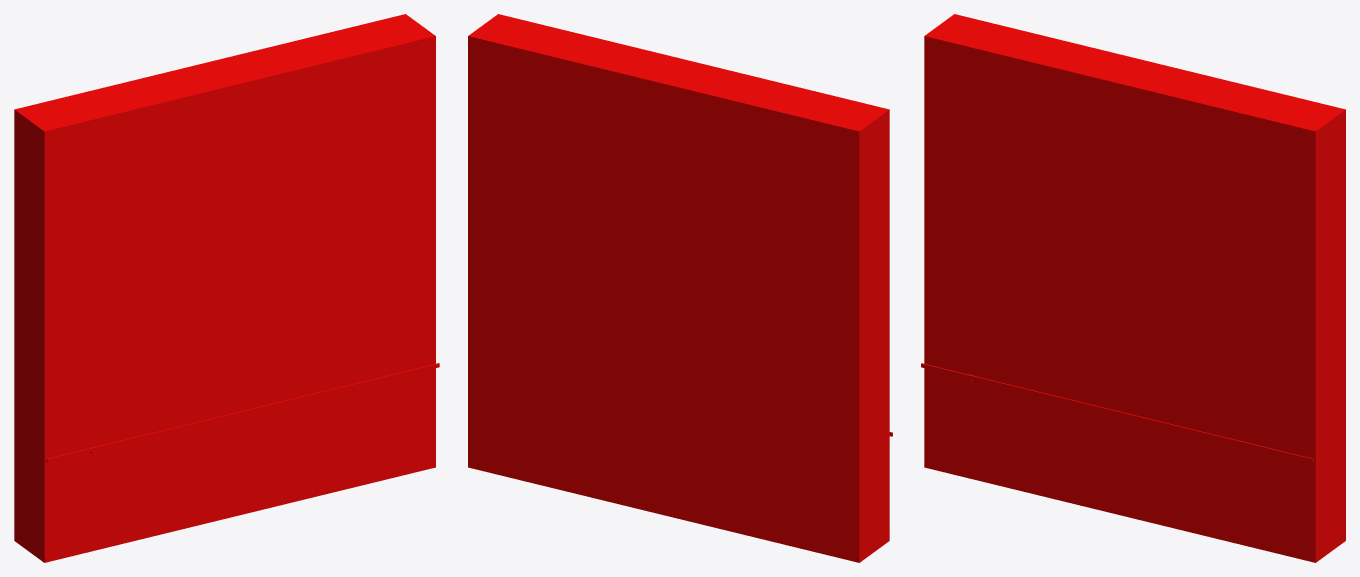
File: Wall.FBX
The picture shows the model from 3 angles, left to right: view 1: azimuth 30°, elevation 25°; view 2: azimuth 150°, elevation 25°; view 3: azimuth 330°, elevation 25°; orthographic projection.
Visible parts, largest first — view 1: Wall_v_034, Wall_v_015, Wall_v_033, Wall_v_044, Wall_v_010, Wall_v_031, Wall_v_039, Wall_v_014, Wall_v_030, Wall_v_037, Wall_v_011, Wall_v_017 (+34 smaller); view 2: Wall_v_034, Wall_v_012, Wall_v_044, Wall_v_006, Wall_v_037, Wall_v_027, Wall_v_030, Wall_v_010, Wall_v_020, Wall_v_042, Wall_v_041, Wall_v_032 (+30 smaller); view 3: Wall_v_034, Wall_v_033, Wall_v_010, Wall_v_044, Wall_v_031, Wall_v_039, Wall_v_026, Wall_v_014, Wall_v_030, Wall_v_015, Wall_v_037, Wall_v_011 (+32 smaller).
Part boxes in pixels (x1,y1,x2,y2): Wall_v_034: (14, 96, 133, 291); Wall_v_015: (14, 304, 121, 448); Wall_v_033: (80, 74, 276, 177); Wall_v_044: (14, 207, 167, 328); Wall_v_010: (126, 158, 246, 263); Wall_v_031: (194, 223, 291, 342); Wall_v_039: (198, 313, 304, 425); Wall_v_014: (280, 294, 381, 399); Wall_v_030: (197, 84, 283, 224); Wall_v_037: (251, 41, 337, 189); Wall_v_011: (294, 32, 434, 136); Wall_v_017: (276, 175, 360, 269); Wall_v_034: (773, 96, 889, 287); Wall_v_012: (623, 53, 810, 183); Wall_v_044: (731, 204, 889, 329); Wall_v_006: (555, 174, 665, 304); Wall_v_037: (533, 44, 656, 178); Wall_v_027: (633, 259, 745, 371); Wall_v_030: (616, 80, 714, 234); Wall_v_010: (664, 168, 778, 269); Wall_v_020: (468, 396, 570, 484); Wall_v_042: (705, 452, 800, 546); Wall_v_041: (493, 321, 591, 423); Wall_v_032: (502, 242, 605, 337); Wall_v_034: (924, 14, 1013, 195); Wall_v_033: (977, 34, 1157, 130); Wall_v_010: (1006, 126, 1125, 236); Wall_v_044: (924, 152, 1046, 246); Wall_v_031: (1074, 227, 1171, 332); Wall_v_039: (1078, 331, 1184, 437); Wall_v_026: (1260, 164, 1345, 292); Wall_v_014: (1160, 318, 1261, 444); Wall_v_030: (1077, 100, 1163, 233); Wall_v_015: (924, 225, 1001, 356); Wall_v_037: (1153, 71, 1233, 213); Wall_v_011: (1193, 82, 1314, 206).
Size of the model in its own units: 7.63 by 1.12 by 8.03.
